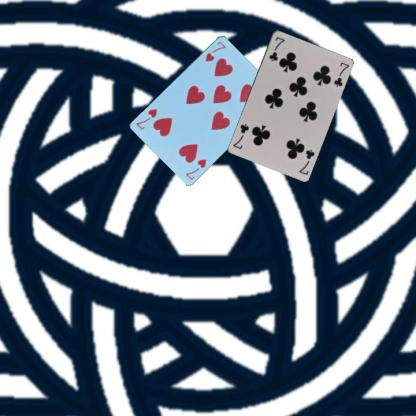7c: (297, 146, 316, 176), (266, 34, 286, 62)
7h: (183, 156, 208, 181), (203, 38, 227, 63)
